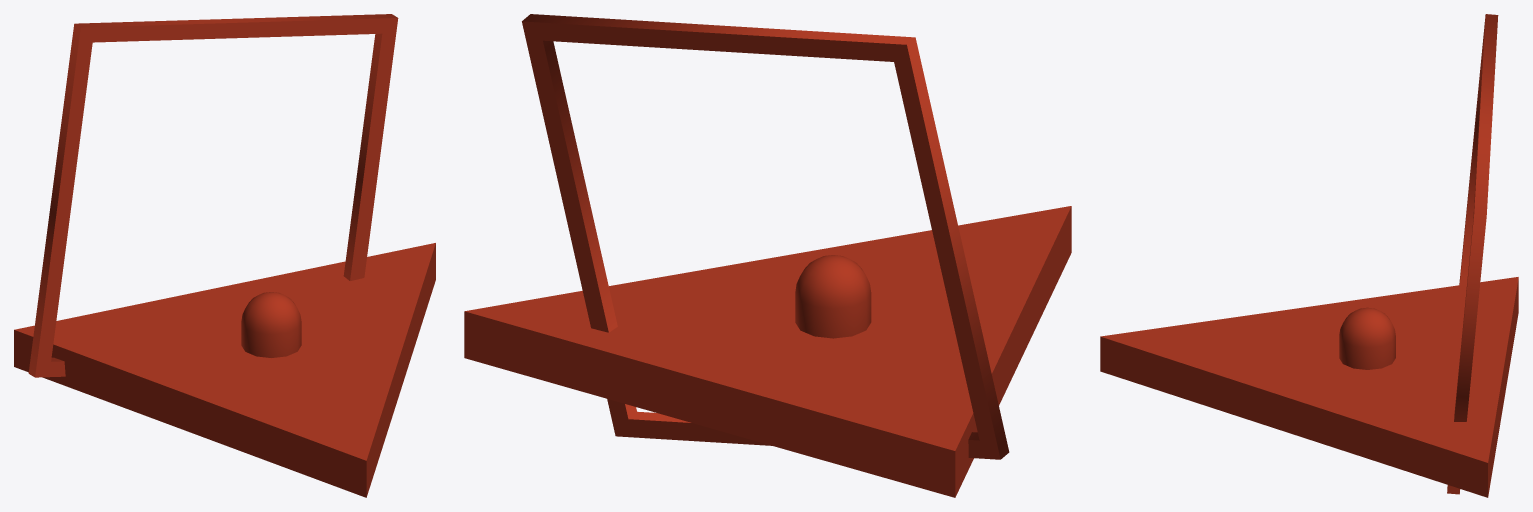
Rendered from RulerPad_error.FBX.
3 views of the same model, side by side, from view 1: azimuth 30°, elevation 25°; view 2: azimuth 150°, elevation 25°; view 3: azimuth 270°, elevation 25° (orthographic). The views are drawn at different scales.
Parts seen in each view (by area): view 1: Gengon01, Tube01, Capsule01; view 2: Gengon01, Tube01, Capsule01; view 3: Gengon01, Tube01, Capsule01.
Part boxes in pixels (x1,y1,x2,y2): Gengon01: [14, 243, 435, 497]; Tube01: [28, 14, 398, 377]; Capsule01: [241, 292, 301, 357]; Gengon01: [464, 206, 1071, 497]; Tube01: [522, 14, 1009, 459]; Capsule01: [795, 255, 871, 338]; Gengon01: [1100, 277, 1518, 497]; Tube01: [1447, 14, 1498, 494]; Capsule01: [1339, 307, 1395, 369].
Bounding box in the file's own units: 11.61 × 10.74 × 10.33.
